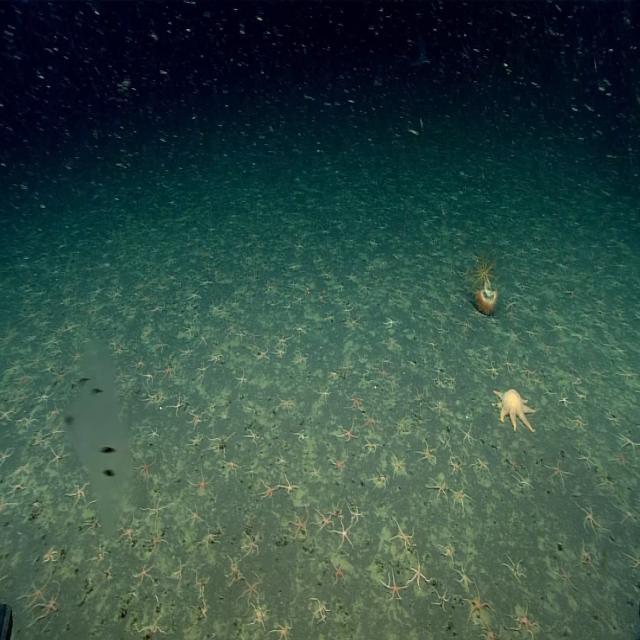brittle-stars: (510, 604, 539, 640), (237, 573, 262, 610), (143, 494, 174, 523), (407, 553, 430, 592), (575, 502, 603, 534), (466, 586, 493, 618), (41, 584, 62, 622), (392, 517, 414, 550), (382, 570, 406, 600), (615, 498, 640, 525), (136, 612, 165, 635), (288, 506, 308, 538), (309, 596, 329, 625), (24, 580, 48, 604), (546, 459, 568, 485), (241, 530, 260, 559), (416, 439, 438, 464), (504, 555, 525, 581), (134, 456, 157, 479), (133, 560, 155, 584), (553, 566, 575, 590), (189, 469, 210, 494), (451, 482, 469, 511), (224, 555, 242, 583), (314, 507, 335, 531), (68, 482, 88, 507), (248, 604, 268, 629), (184, 503, 205, 526), (272, 617, 293, 640), (119, 517, 139, 541), (336, 520, 352, 550), (616, 432, 640, 452), (454, 563, 472, 589), (427, 477, 447, 500), (612, 450, 634, 470), (339, 420, 358, 443), (146, 530, 164, 554), (390, 452, 408, 476), (328, 452, 346, 476), (577, 445, 595, 468), (260, 478, 279, 499), (458, 425, 477, 446), (201, 525, 219, 547), (50, 444, 68, 466), (566, 415, 588, 433), (42, 544, 59, 567), (8, 461, 31, 478), (513, 471, 533, 490), (369, 470, 388, 490), (281, 474, 298, 496), (434, 587, 450, 610), (16, 411, 36, 428), (624, 549, 640, 570), (363, 411, 378, 433), (223, 459, 241, 477), (332, 561, 346, 582), (364, 438, 380, 456), (278, 397, 296, 413), (439, 542, 454, 561), (348, 504, 362, 524), (473, 457, 489, 474), (431, 398, 448, 414), (188, 411, 202, 430), (197, 328, 211, 347), (439, 432, 452, 452), (160, 364, 176, 380), (347, 394, 362, 411), (548, 320, 565, 335), (507, 327, 522, 344), (316, 387, 331, 403), (0, 447, 14, 464), (245, 428, 259, 445), (255, 346, 269, 363), (235, 368, 247, 387), (0, 408, 14, 424), (208, 352, 224, 366), (186, 288, 200, 304), (274, 331, 288, 347), (524, 323, 538, 339), (449, 457, 462, 474), (200, 600, 210, 622), (501, 357, 515, 372), (522, 364, 536, 379), (396, 414, 406, 434), (142, 371, 156, 385), (115, 368, 129, 382), (112, 343, 126, 357), (188, 434, 203, 447), (558, 392, 571, 407), (432, 308, 447, 321), (70, 348, 82, 364), (274, 345, 286, 361), (293, 322, 306, 336), (486, 361, 498, 376), (383, 317, 398, 329), (296, 349, 308, 364), (179, 344, 193, 356), (384, 336, 398, 348), (293, 430, 308, 441), (154, 340, 169, 351), (196, 362, 208, 375), (342, 304, 354, 317), (275, 452, 286, 466), (148, 426, 160, 438), (509, 458, 520, 471), (547, 306, 558, 318), (359, 281, 370, 293), (34, 435, 44, 447), (347, 272, 356, 284), (447, 372, 456, 383), (249, 330, 258, 341)
